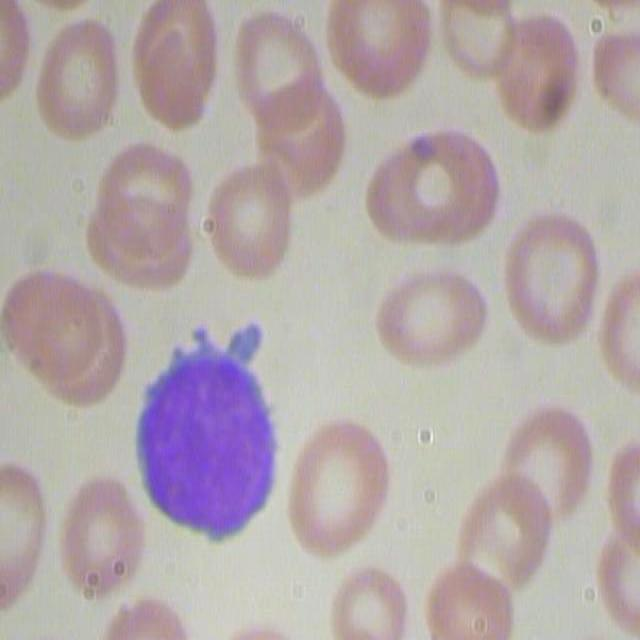RBC: (362, 127, 504, 256), (85, 139, 200, 296), (5, 269, 129, 411), (285, 418, 396, 560), (498, 212, 610, 350), (372, 256, 486, 376), (309, 1, 433, 105), (127, 0, 226, 127), (497, 403, 599, 522), (449, 477, 550, 593), (227, 4, 320, 124), (490, 6, 580, 128), (37, 14, 124, 140), (204, 162, 298, 278), (58, 478, 144, 598), (100, 589, 284, 640), (0, 450, 56, 609), (324, 560, 414, 638), (440, 0, 526, 79), (425, 564, 513, 640), (595, 16, 640, 158), (598, 262, 640, 393), (599, 517, 640, 634), (0, 0, 34, 103)
WBC: (133, 326, 292, 556)
